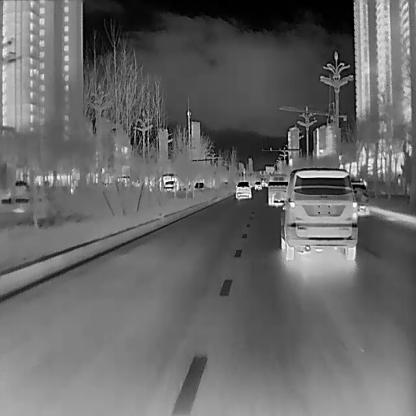car: (280, 167, 358, 260), (351, 180, 370, 216), (234, 180, 252, 199), (163, 180, 176, 192), (192, 181, 205, 190), (253, 180, 262, 190)
truck: (266, 173, 288, 204)
